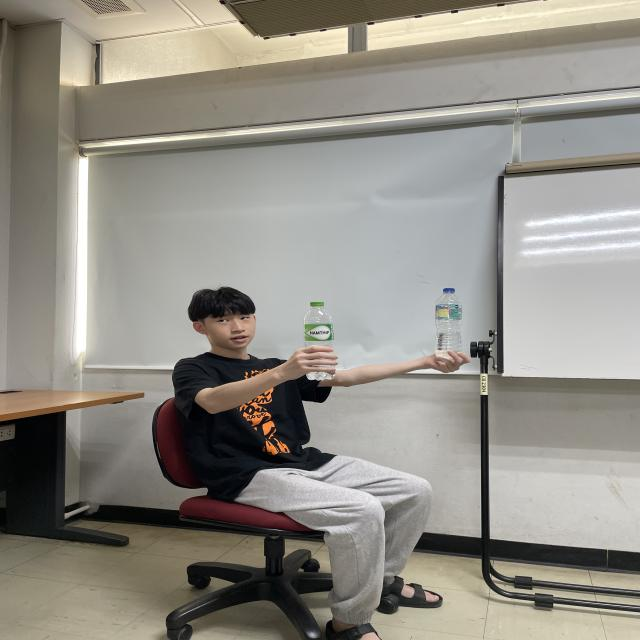bottle: (305, 302, 341, 384), (433, 290, 465, 366)
